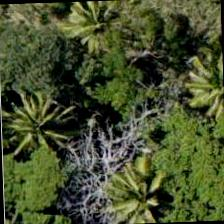Kelapa_Sawit: (0, 70, 86, 164), (96, 155, 189, 223), (172, 29, 223, 122)
